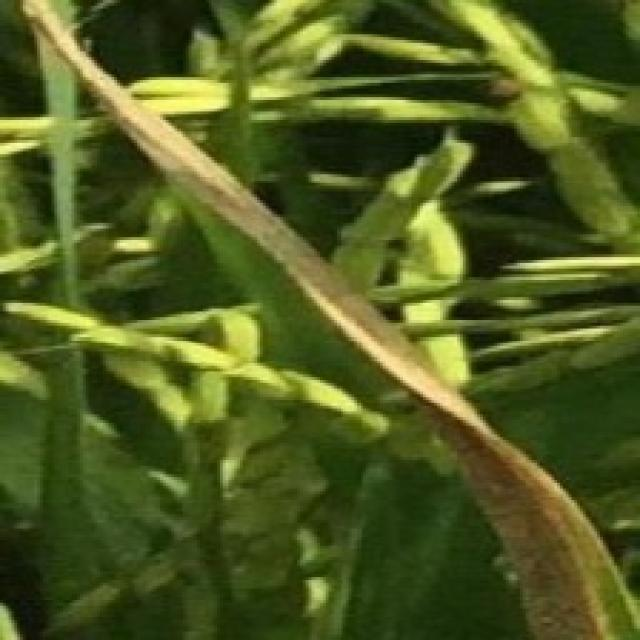Rice___Bacterial_Leaf_Blight: (18, 0, 637, 637)
